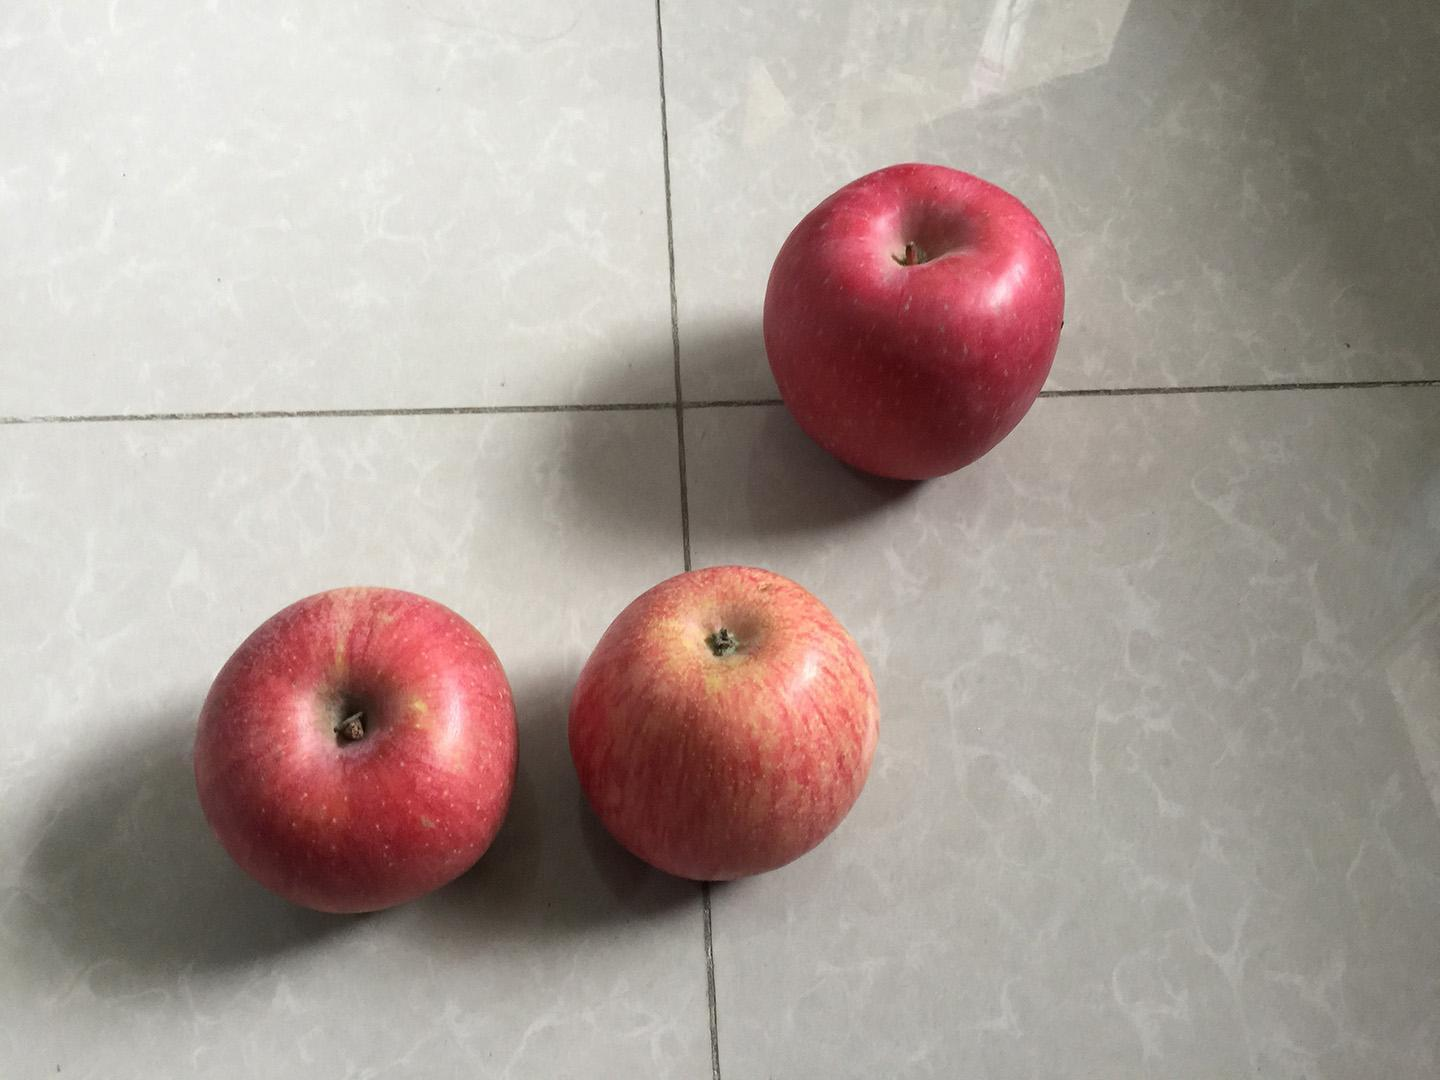apple: (187, 577, 525, 923), (561, 556, 887, 889), (756, 157, 1071, 486)
